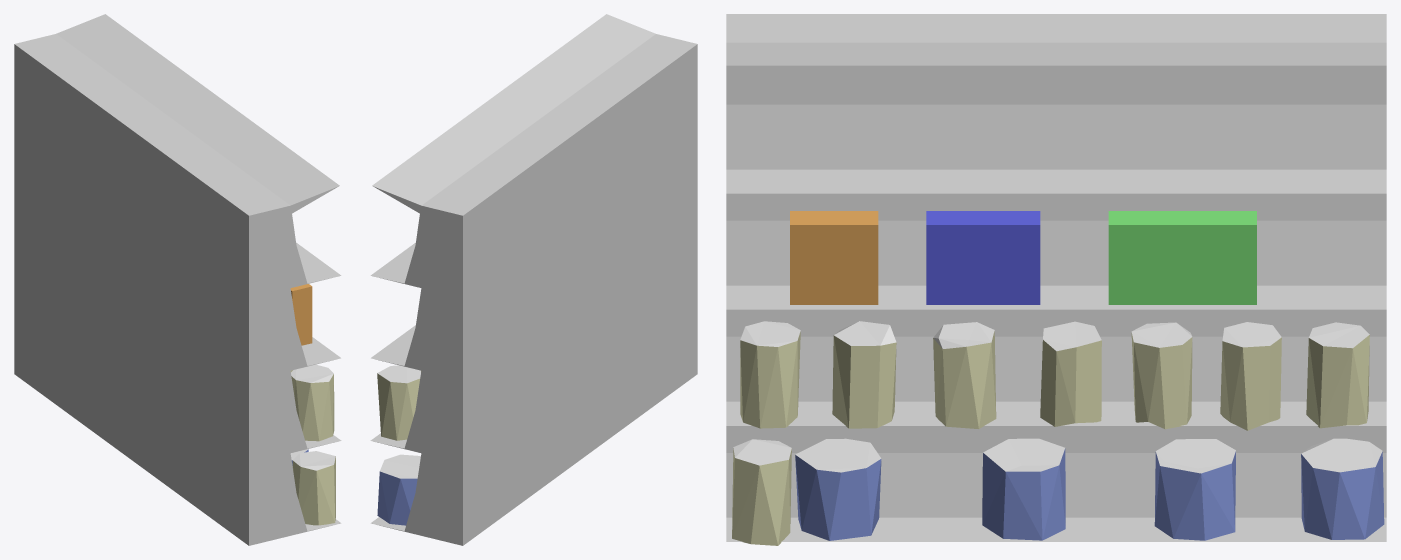
The model's file is shelf.fbx.
3 views of the same model, side by side, from view 1: azimuth 30°, elevation 25°; view 2: azimuth 150°, elevation 25°; view 3: azimuth 270°, elevation 25° (orthographic). The views are drawn at different scales.
Visible parts, largest first — view 1: Cube, Soup.007, Box; view 2: Cube, Soup.007, Can.002; view 3: Cube, Soup.007, Can.002, Box.002, Box.001, Box.
Boxes of the visible parts, box(x1,y1,x2,y2) form: Cube: box(14, 14, 341, 545); Soup.007: box(290, 364, 335, 525); Box: box(290, 284, 312, 345); Cube: box(370, 14, 697, 545); Soup.007: box(377, 365, 421, 440); Can.002: box(377, 454, 420, 525); Cube: box(726, 14, 1386, 541); Soup.007: box(732, 321, 1369, 545); Can.002: box(795, 438, 1384, 540); Box.002: box(1108, 211, 1256, 304); Box.001: box(926, 211, 1040, 304); Box: box(790, 211, 878, 304).
Size of the model in its own units: 186 by 610 by 765.
